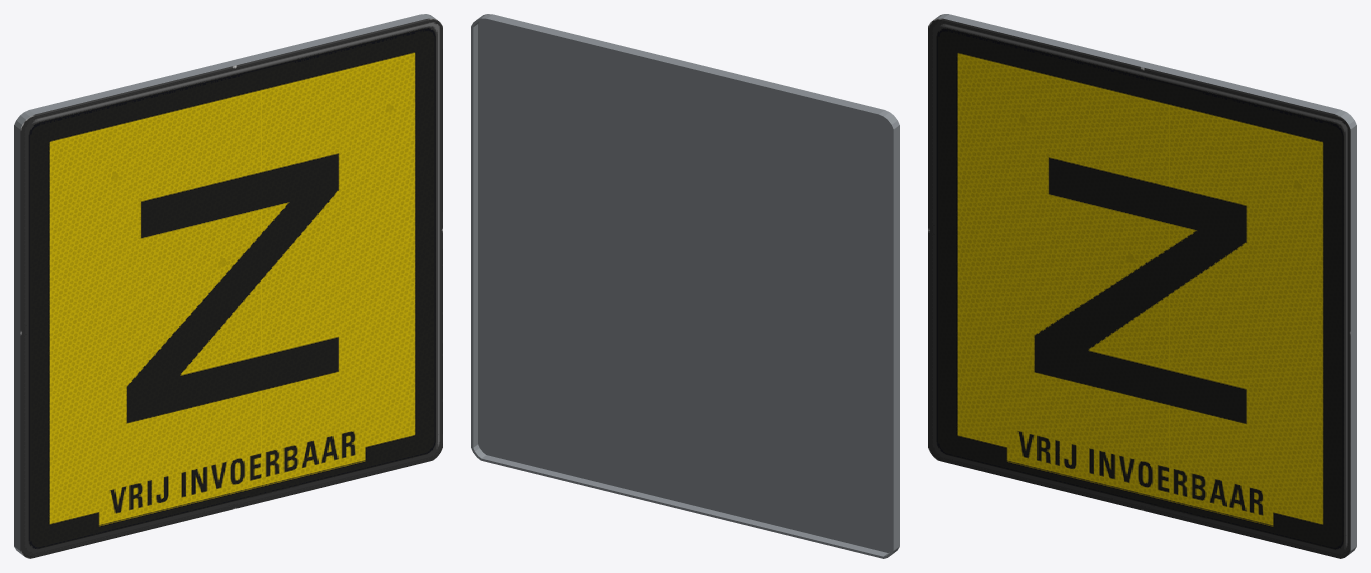
3 renders of one model, left to right at view 1: azimuth 30°, elevation 25°; view 2: azimuth 150°, elevation 25°; view 3: azimuth 330°, elevation 25°, orthographic.
Visible parts, largest first — view 1: cat_00614972c4b9e28f; view 2: cat_00614972c4b9e28f; view 3: cat_00614972c4b9e28f.
Boxes of the visible parts, x1,y1,x2,y2 form: cat_00614972c4b9e28f: [14, 14, 442, 558]; cat_00614972c4b9e28f: [471, 14, 899, 558]; cat_00614972c4b9e28f: [928, 14, 1356, 558].
Size of the model in its own units: 0.6 by 0.015 by 0.6014.
2 materials, 1 textured.
